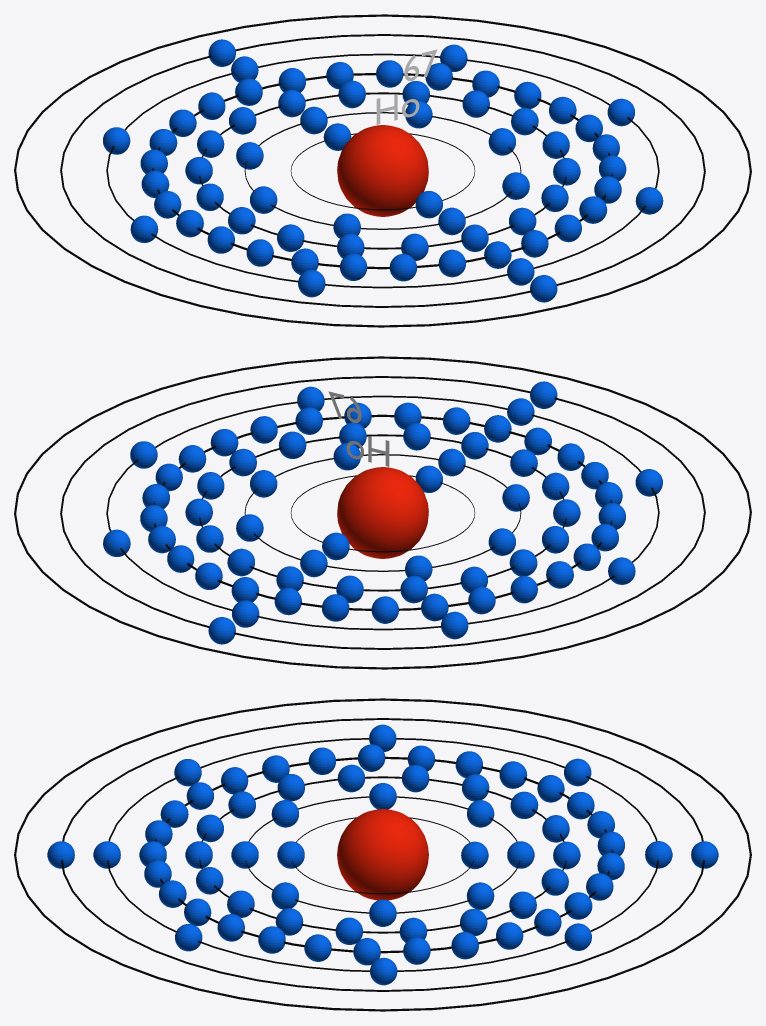
3 views of the same model, one above another, from view 1: azimuth 30°, elevation 25°; view 2: azimuth 150°, elevation 25°; view 3: azimuth 270°, elevation 25° (orthographic).
Parts seen in each view (by area): view 1: Ho4, Ho3, Proton, n7, Ho5, Ho2, n6, n5, Ho6, Ho1, n4, n3 (+1 smaller); view 2: Ho4, Ho3, Proton, Ho5, n7, Ho2, n6, n5, Ho6, Ho1, n4, n3 (+1 smaller); view 3: Ho4, Ho3, Proton, Ho2, Ho5, n7, n6, n5, Ho1, Ho6, n4, n3 (+2 smaller).
Boxes of the visible parts, x1,y1,x2,y2 form: Ho4: [140, 60, 626, 281]; Ho3: [185, 80, 580, 260]; Proton: [337, 125, 428, 216]; n7: [14, 14, 751, 327]; Ho5: [103, 44, 663, 297]; Ho2: [236, 101, 529, 238]; n6: [60, 34, 705, 307]; n5: [106, 53, 659, 288]; Ho6: [208, 39, 557, 302]; Ho1: [323, 123, 442, 218]; n4: [152, 73, 612, 269]; n3: [199, 92, 566, 249]; Ho4: [140, 402, 625, 623]; Ho3: [185, 422, 580, 603]; Proton: [337, 467, 428, 558]; Ho5: [103, 386, 662, 639]; n7: [14, 356, 751, 669]; Ho2: [236, 443, 529, 580]; n6: [60, 376, 705, 649]; n5: [106, 395, 659, 630]; Ho6: [208, 381, 557, 644]; Ho1: [322, 465, 442, 560]; n4: [153, 414, 612, 610]; n3: [199, 434, 566, 591]; Ho4: [139, 744, 624, 965]; Ho3: [185, 764, 580, 944]; Proton: [337, 809, 428, 900]; Ho2: [231, 783, 534, 926]; Ho5: [93, 724, 672, 985]; n7: [14, 698, 751, 1011]; n6: [61, 718, 704, 991]; n5: [107, 738, 658, 971]; Ho1: [277, 841, 488, 869]; Ho6: [47, 841, 718, 868]; n4: [153, 756, 613, 953]; n3: [199, 776, 566, 933].
Size of the model in its own units: 802 by 180 by 802.
